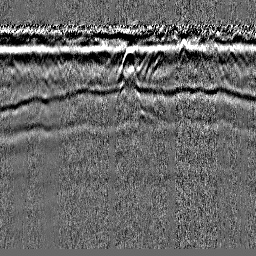cavity: (117, 45, 140, 82)
